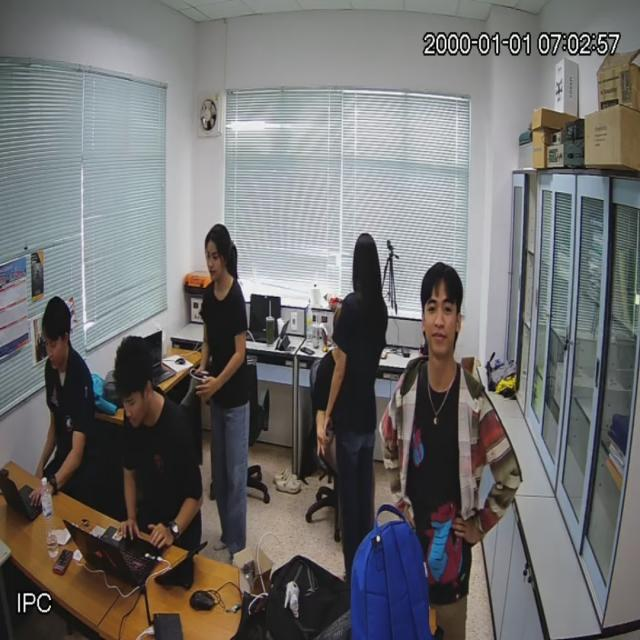normal: (384, 265, 504, 640), (315, 232, 385, 537), (118, 337, 200, 552), (198, 223, 246, 548), (32, 296, 97, 512)
